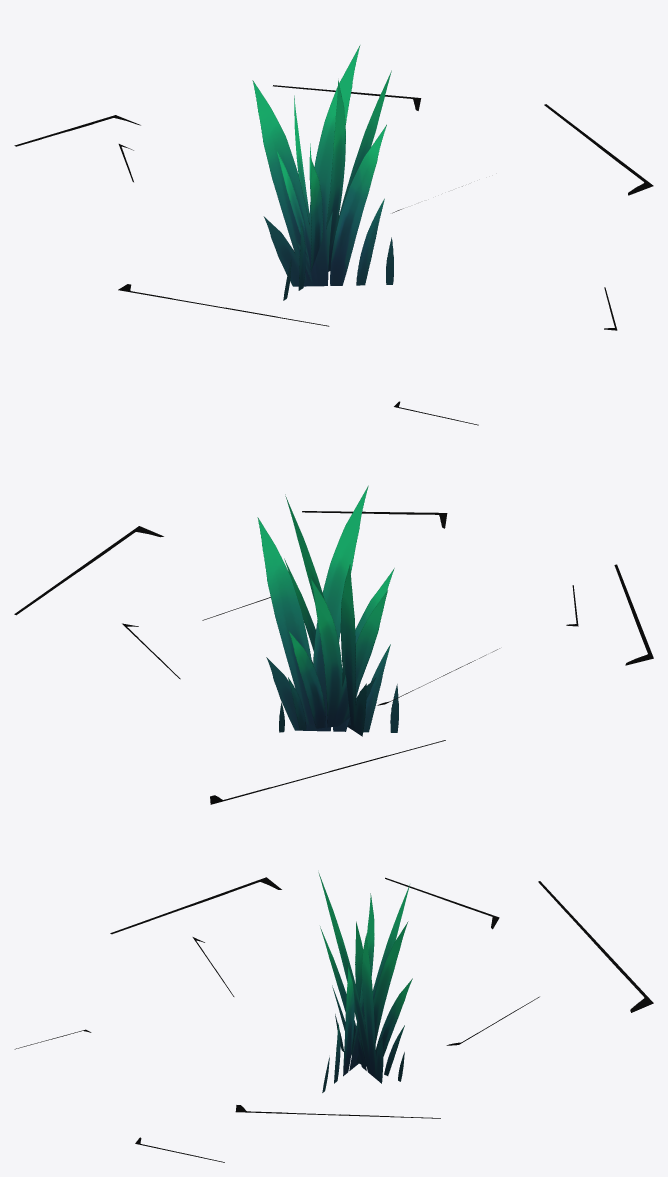
Rendered from m_PlantSmall2.FBX.
The picture shows the model from 3 angles, top to bottom: view 1: azimuth 30°, elevation 25°; view 2: azimuth 150°, elevation 25°; view 3: azimuth 270°, elevation 25°; orthographic projection. The views are drawn at different scales.
Parts seen in each view (by area): view 1: Plant Smol 2; view 2: Plant Smol 2; view 3: Plant Smol 2.
Boxes of the visible parts, left/top/right/bottom form: Plant Smol 2: left=14, top=45, right=653, bottom=425; Plant Smol 2: left=14, top=485, right=653, bottom=804; Plant Smol 2: left=14, top=872, right=653, bottom=1162.
Bounding box in the file's own units: 8.93 × 4.47 × 10.54.
